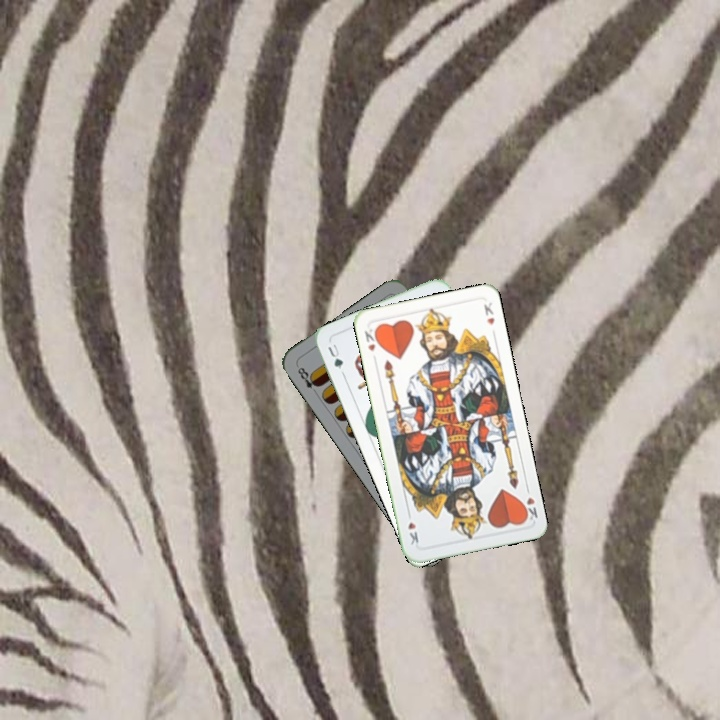E8: (293, 361, 322, 397)
GU: (324, 340, 346, 372)
HK: (518, 482, 540, 524), (360, 325, 382, 354)
